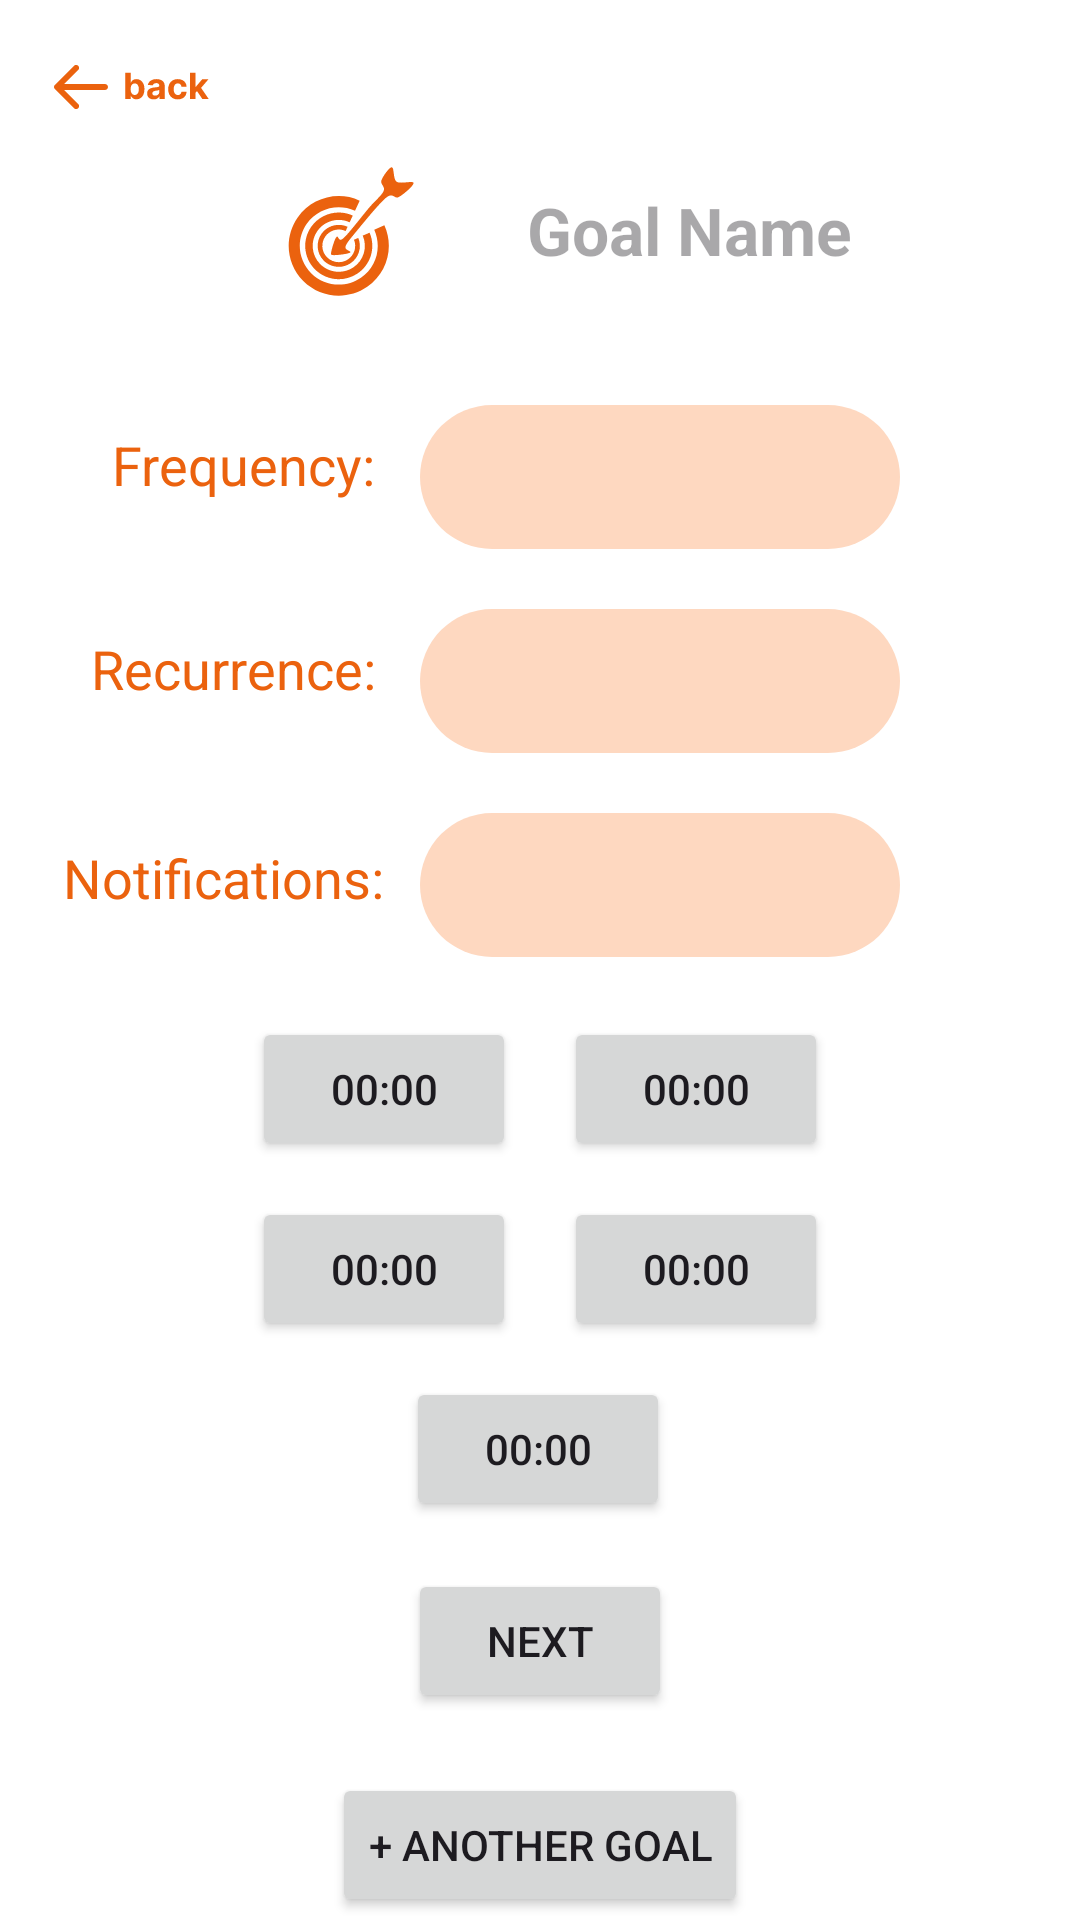

Screen size 1080 x 1920. Icon name, then its box in pixels as (x1, y1, x2, y2):
target wrapper: (288, 167, 414, 296)
